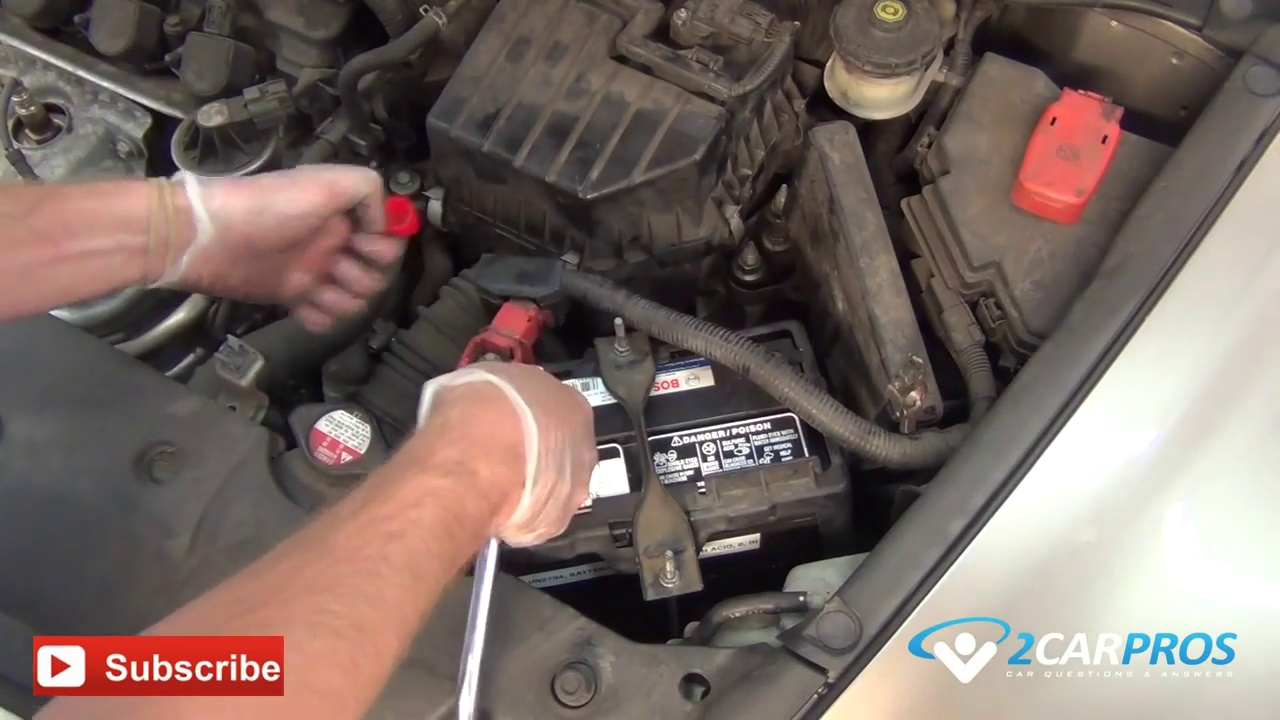battery: (496, 335, 837, 544)
pos_touched: (433, 278, 576, 441)
